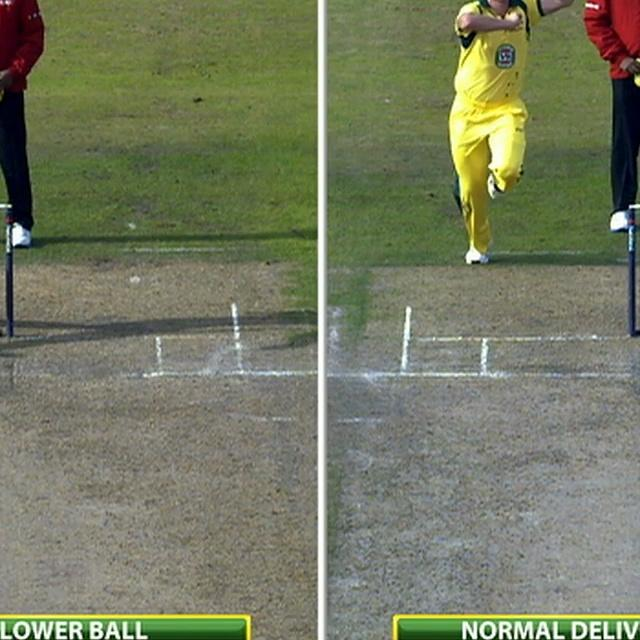umpire: (575, 0, 640, 235)
